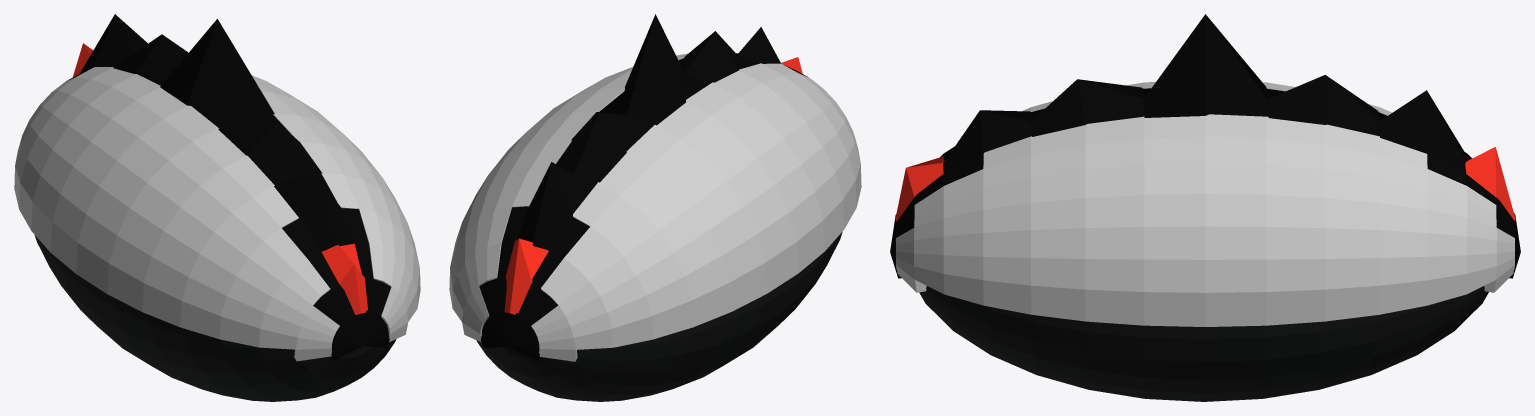
The model's file is yellowshell_separate.gltf.
The picture shows the model from 3 angles, left to right: view 1: azimuth 30°, elevation 25°; view 2: azimuth 150°, elevation 25°; view 3: azimuth 270°, elevation 25°; orthographic projection. The views are drawn at different scales.
Parts seen in each view (by area): view 1: shell, shell.002, base, shell.003; view 2: shell, shell.002, base, shell.003; view 3: shell, base, shell.002, shell.003.
Boxes of the visible parts, x1,y1,x2,y2 form: shell: [14, 67, 420, 361]; shell.002: [67, 14, 391, 360]; base: [34, 235, 396, 401]; shell.003: [72, 43, 367, 314]; shell: [449, 53, 861, 361]; shell.002: [479, 14, 808, 361]; base: [476, 232, 842, 401]; shell.003: [504, 57, 802, 314]; shell: [896, 82, 1514, 326]; base: [919, 286, 1488, 401]; shell.002: [890, 14, 1520, 278]; shell.003: [895, 147, 1515, 221].
Size of the model in its own units: 1.17 by 1.36 by 2.09.
